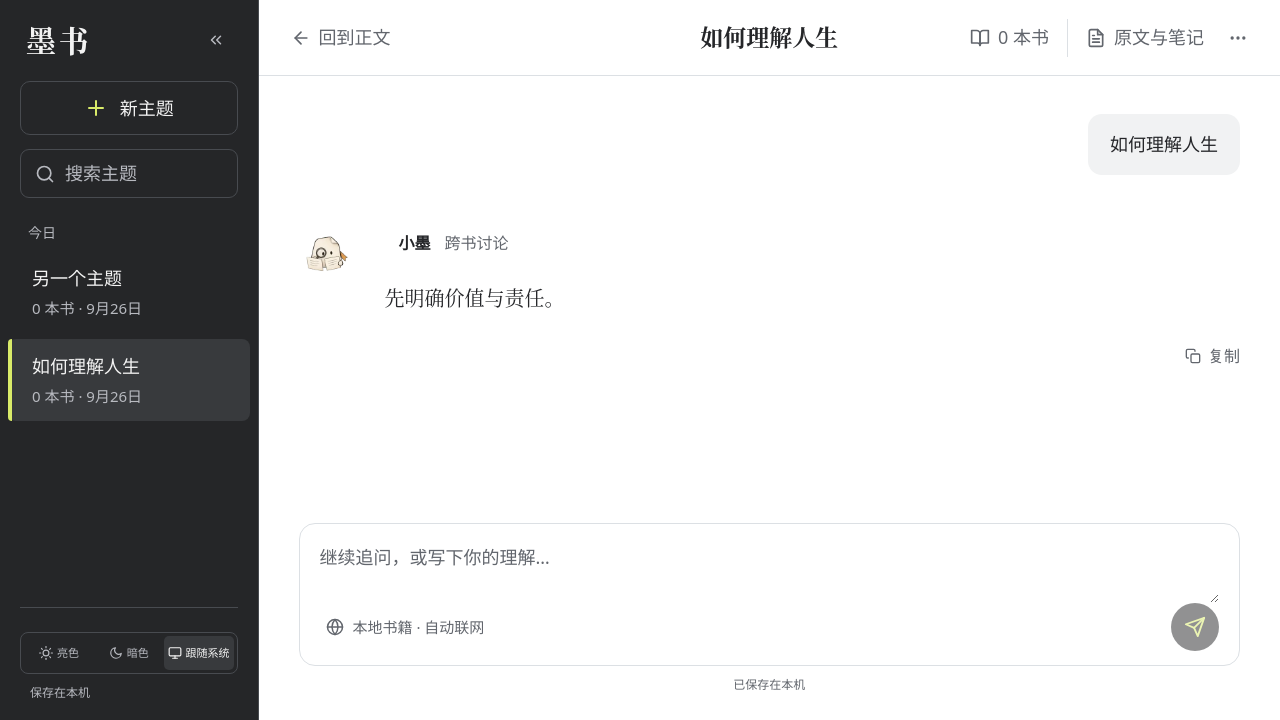
Test case: 主题会话本地可靠性 › does not carry a failed request into a different history topic
This screenshot has width=1280, height=720.
Type "为什么这样判断？" into the text box labelled "继续追问" at coordinates (769, 572), box [320,542,1219,603]
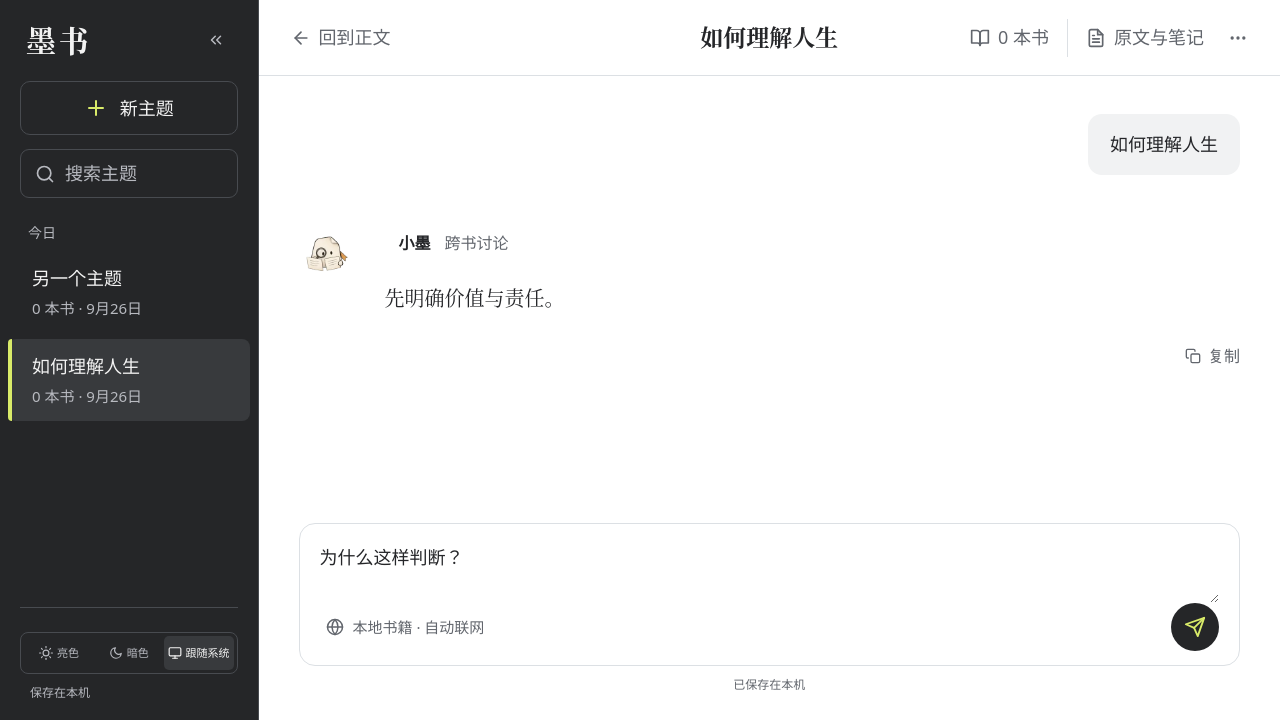
Submit the form named "继续追问", box [298,523,1240,666]
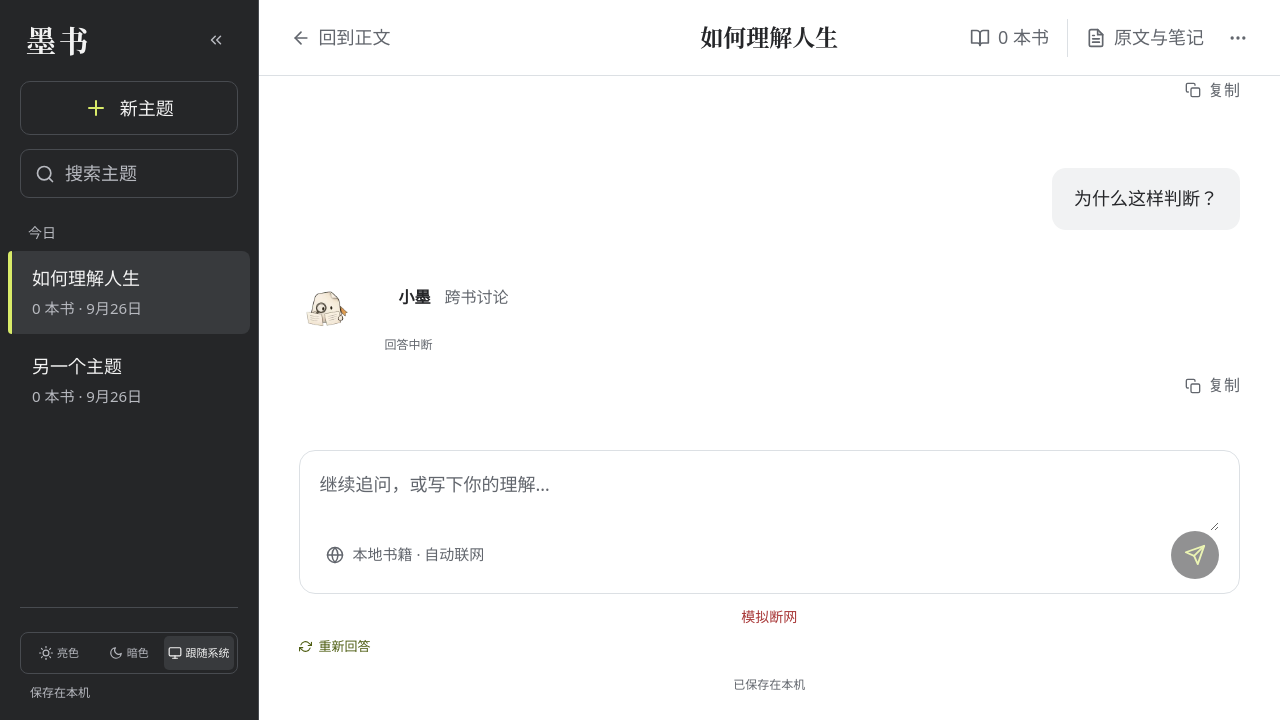
expect the button "重新回答" is shown: met, box [298,626,370,666]
Click the button "另一个主题 0 本书 · 9月26日" at coordinates (129, 380), box [8,338,250,421]
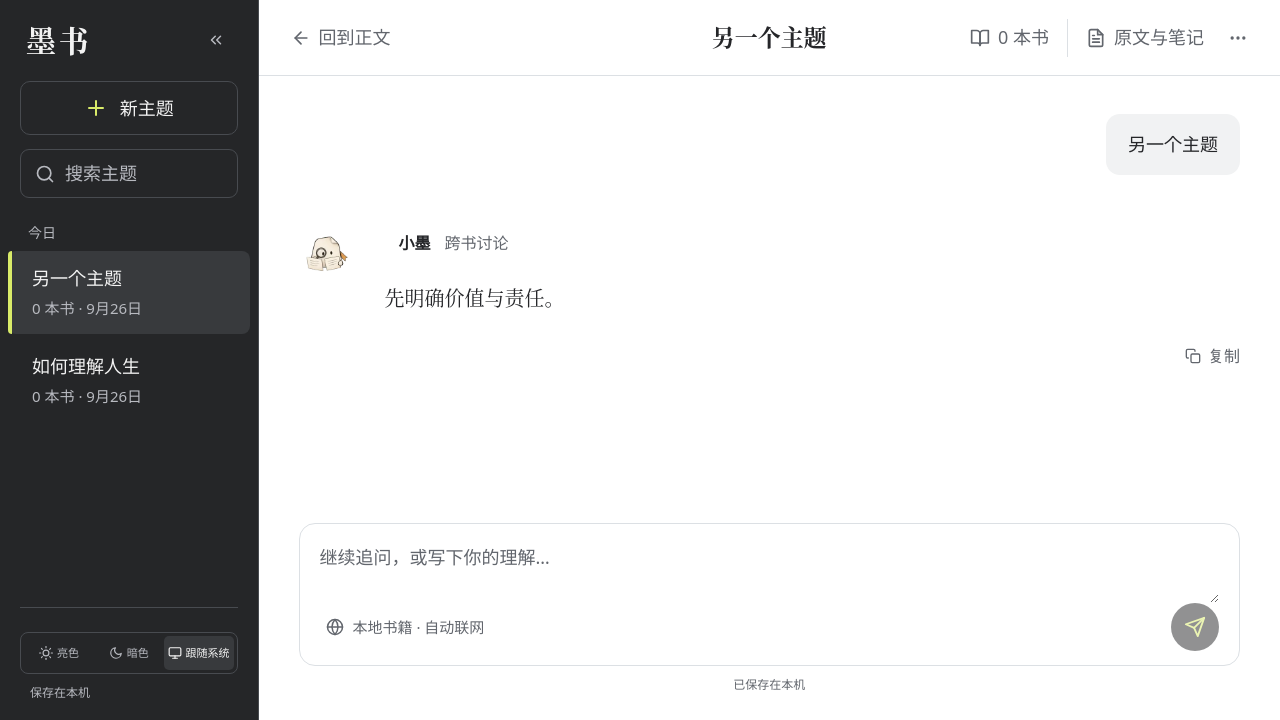
expect the button "重新回答" is gone: met
expect the text "为什么这样判断？" is gone: met
